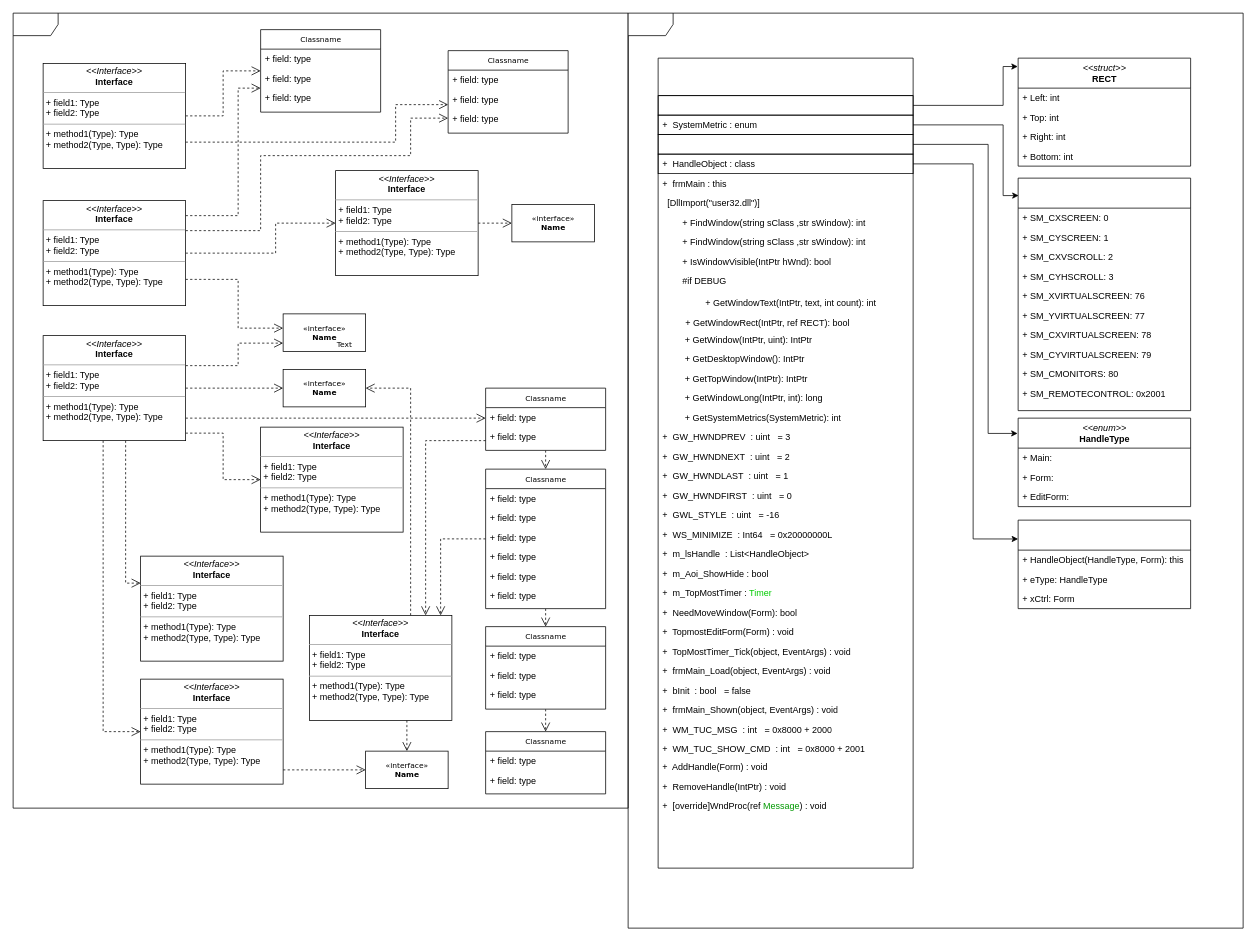
Some shapes in this 1256 by 941 pixel diagram are drawn without their labels. The shapes that lost their labels are listed below. From the top down, each one's box as (x1, y1, x2, y2) in pixels, then its label:
(657, 95, 913, 115): + RECT : struct
(657, 134, 913, 154): + HandleType : enum
(1017, 177, 1191, 411): <<enum>> SystemMetric
(12, 12, 628, 808): pre
(657, 57, 913, 868): <<Form>> frmMain
(627, 12, 1243, 928): frame
(1017, 519, 1191, 609): <<class>> HandleObject
